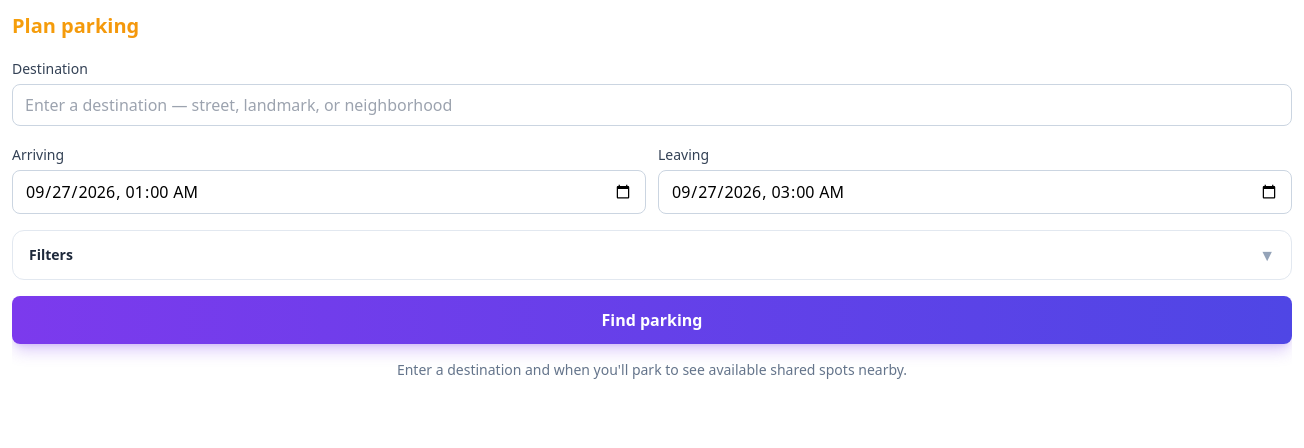
Explore › requires a picked destination before searching
The image size is (1304, 448).
Click the button "Find parking": coordinates (652, 320) [12,296,1292,344]
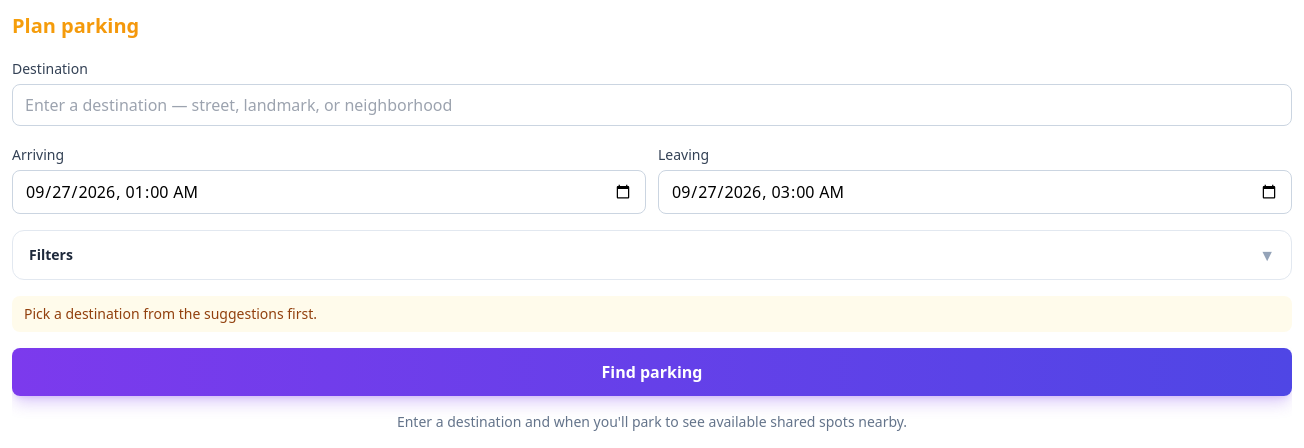
Expected: the text "Pick a destination from the suggestions first." is shown, [12,296,1292,332]
